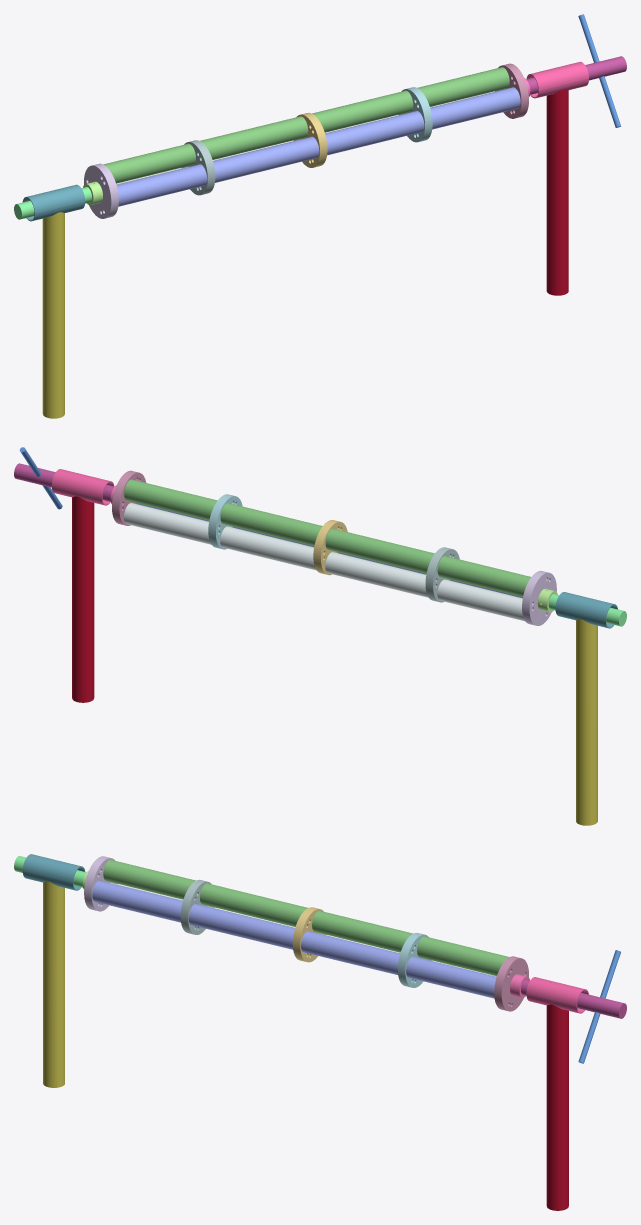
The picture shows the model from 3 angles, top to bottom: view 1: azimuth 30°, elevation 25°; view 2: azimuth 150°, elevation 25°; view 3: azimuth 330°, elevation 25°; orthographic projection.
Parts seen in each view (by area): view 1: Object_3.022, Object_3, split_parent_8, split_parent_6, split_parent_5, split_parent_7, Object_5.061, Object_4, Object_5.025, split_parent_12, Object_5.037, split_parent_15 (+1 smaller); view 2: Object_3, Object_3.025, split_parent_8, split_parent_6, split_parent_5, split_parent_7, Object_5.061, Object_5.025, Object_5.037, split_parent_12, split_parent_15, Object_4 (+1 smaller); view 3: Object_3.022, Object_3, split_parent_8, split_parent_6, split_parent_7, split_parent_5, split_parent_12, Object_4, Object_5.025, split_parent_15, Object_5.037, Object_5.061 (+1 smaller).
Part boxes in pixels (bbox=[...]): Object_3.022: bbox=[116, 87, 520, 206]; Object_3: bbox=[103, 67, 509, 183]; split_parent_8: bbox=[546, 89, 568, 295]; split_parent_6: bbox=[42, 212, 64, 418]; split_parent_5: bbox=[22, 184, 85, 221]; split_parent_7: bbox=[526, 61, 588, 98]; Object_5.061: bbox=[84, 163, 118, 218]; Object_4: bbox=[526, 56, 626, 94]; Object_5.025: bbox=[399, 87, 432, 142]; split_parent_12: bbox=[495, 63, 528, 118]; Object_5.037: bbox=[181, 140, 215, 195]; split_parent_15: bbox=[293, 112, 327, 167]; Object_3: bbox=[124, 479, 530, 597]; Object_3.025: bbox=[124, 503, 524, 621]; split_parent_8: bbox=[72, 496, 94, 702]; split_parent_6: bbox=[576, 619, 597, 825]; split_parent_5: bbox=[555, 592, 617, 628]; split_parent_7: bbox=[51, 469, 114, 505]; Object_5.061: bbox=[522, 570, 556, 625]; Object_5.025: bbox=[208, 494, 242, 549]; Object_5.037: bbox=[425, 547, 459, 602]; split_parent_12: bbox=[112, 470, 146, 525]; split_parent_15: bbox=[313, 520, 347, 575]; Object_4: bbox=[14, 463, 114, 501]; Object_3.022: bbox=[92, 880, 496, 998]; Object_3: bbox=[103, 859, 509, 976]; split_parent_8: bbox=[546, 1004, 568, 1210]; split_parent_6: bbox=[43, 881, 64, 1087]; split_parent_7: bbox=[526, 977, 588, 1013]; split_parent_5: bbox=[22, 854, 85, 890]; split_parent_12: bbox=[494, 956, 528, 1011]; Object_4: bbox=[521, 979, 626, 1018]; Object_5.025: bbox=[397, 933, 431, 987]; split_parent_15: bbox=[292, 907, 326, 962]; Object_5.037: bbox=[180, 879, 214, 934]; Object_5.061: bbox=[84, 856, 117, 911].
Bounding box in the file's own units: 1 × 0.4003 × 0.1133.
